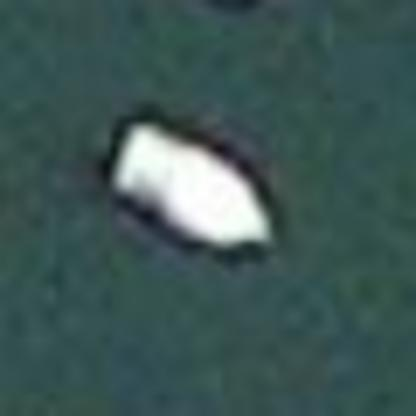ship: (94, 99, 294, 271)
